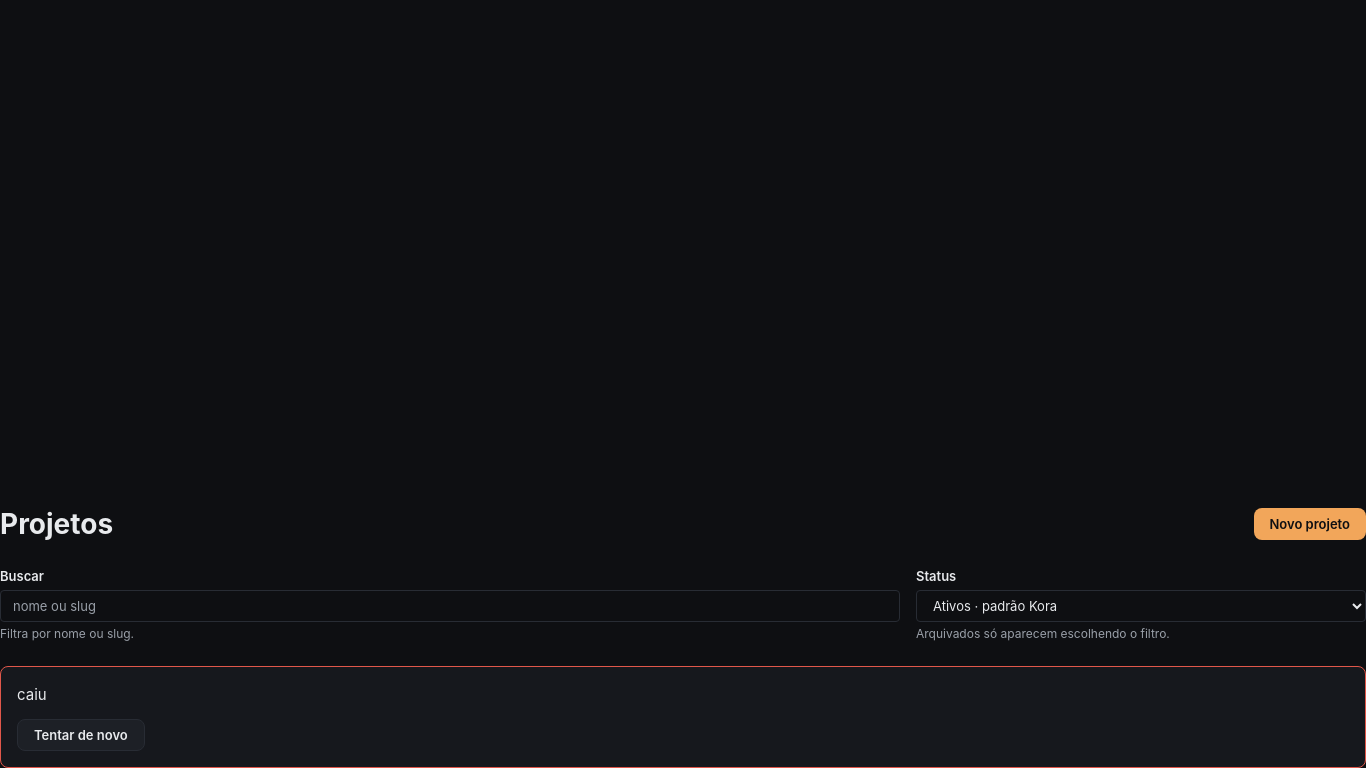
it: PaginaRegistry › erro mostra alerta e tentar de novo recarrega
The image size is (1366, 768).
(page scrolled)
Expected: the message shows "caiu", [17, 685, 47, 704]
Click the button "Tentar de novo" at (81,735), box [17, 719, 145, 751]
(page scrolled)
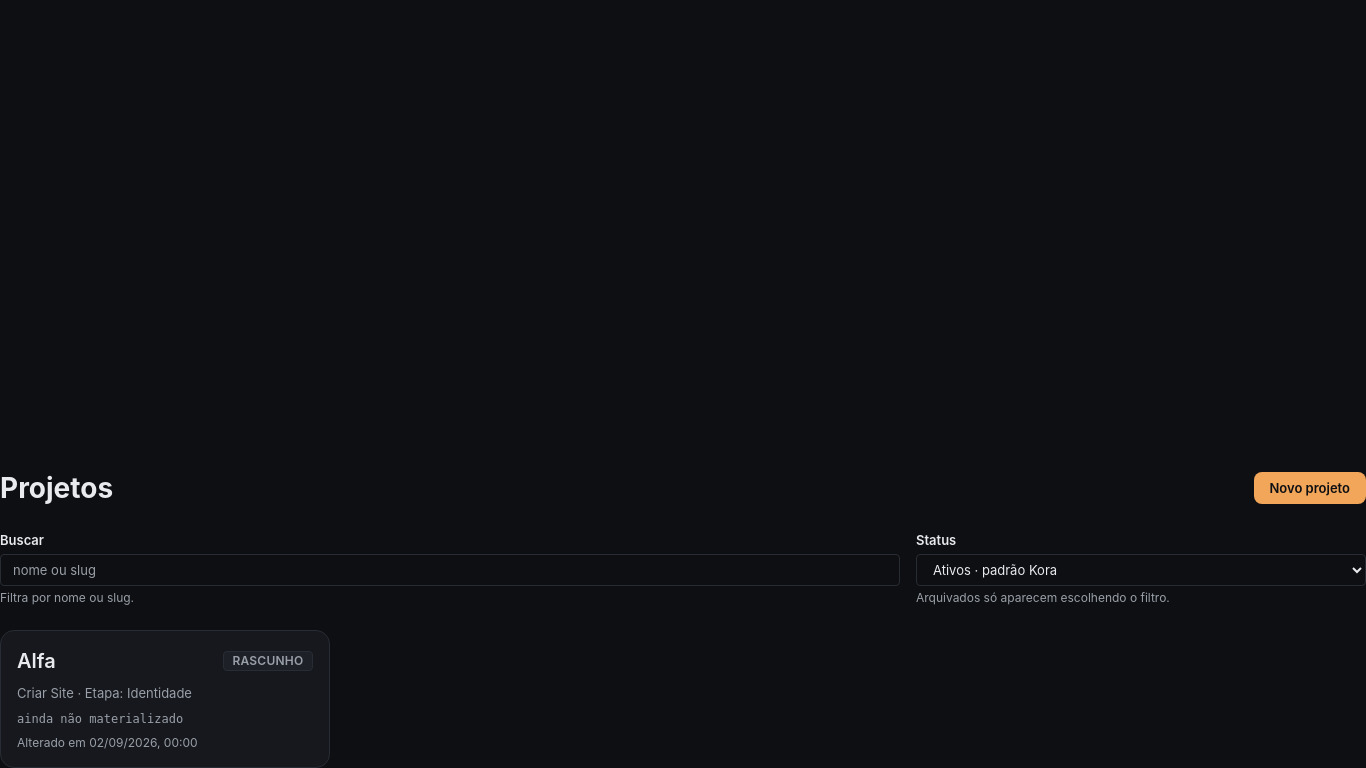
Now the link "Alfa" is shown, box [0, 630, 330, 767]
